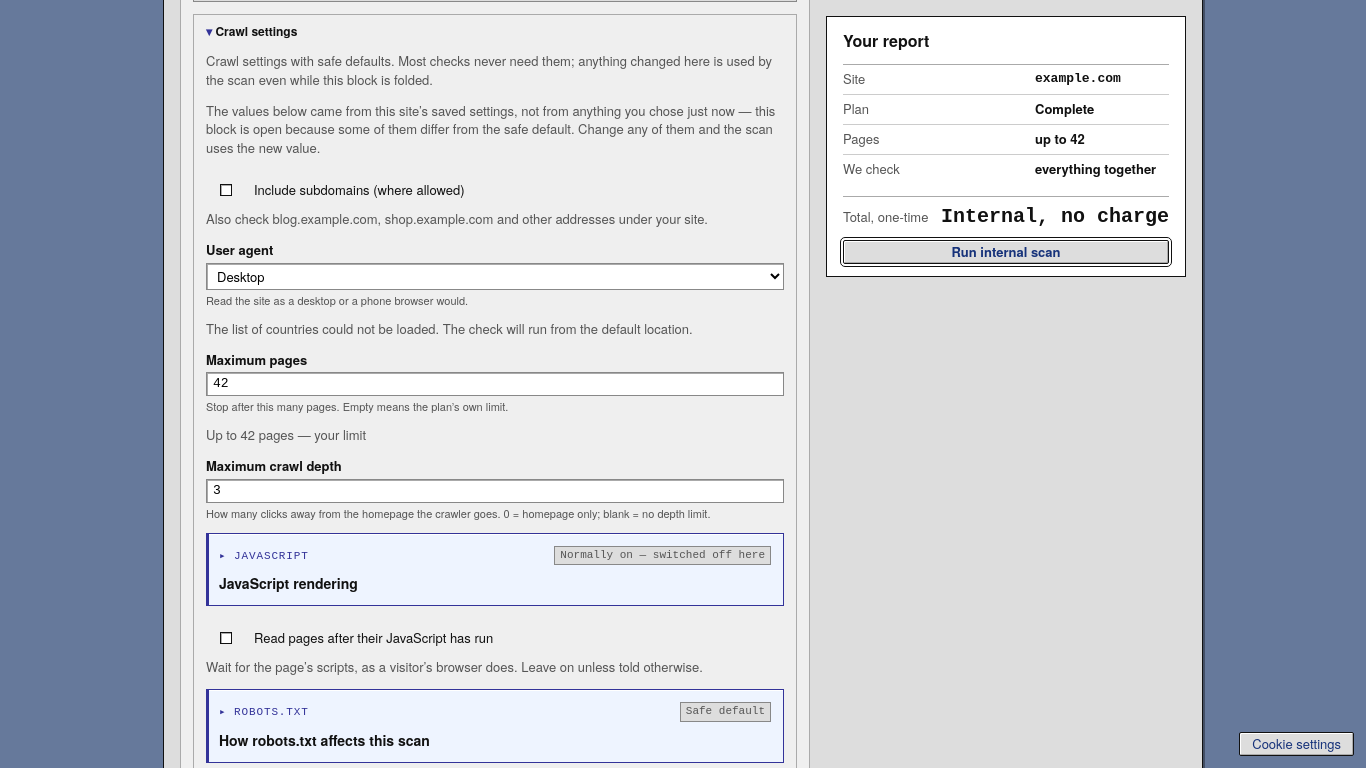
Test: a page count the API would refuse › stops the scan and says so when the page count is zero
(page scrolled)
Replace the text in the number field labelled "Maximum pages" with "0": (495, 384) x1=206 y1=372 x2=784 y2=396
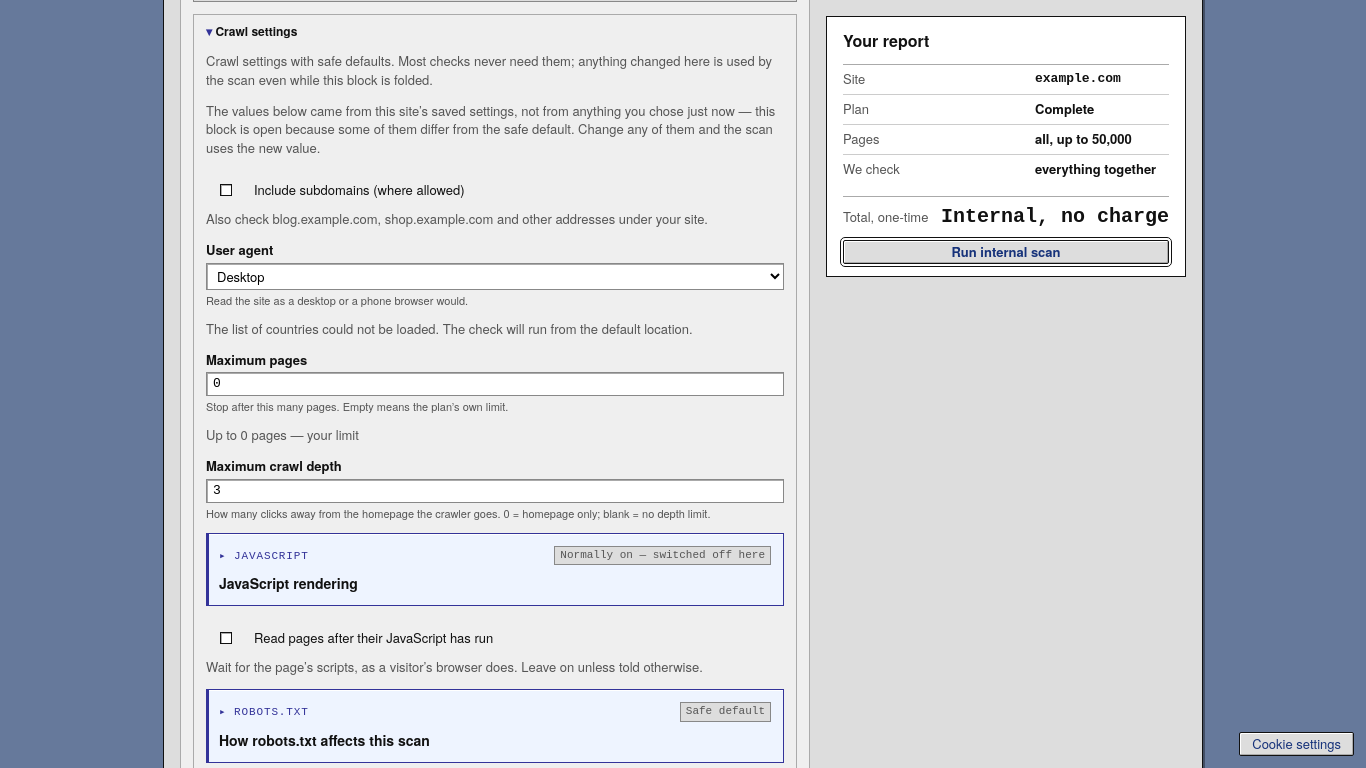
Click the button "Run internal scan": click(1006, 252) x1=843 y1=240 x2=1169 y2=264
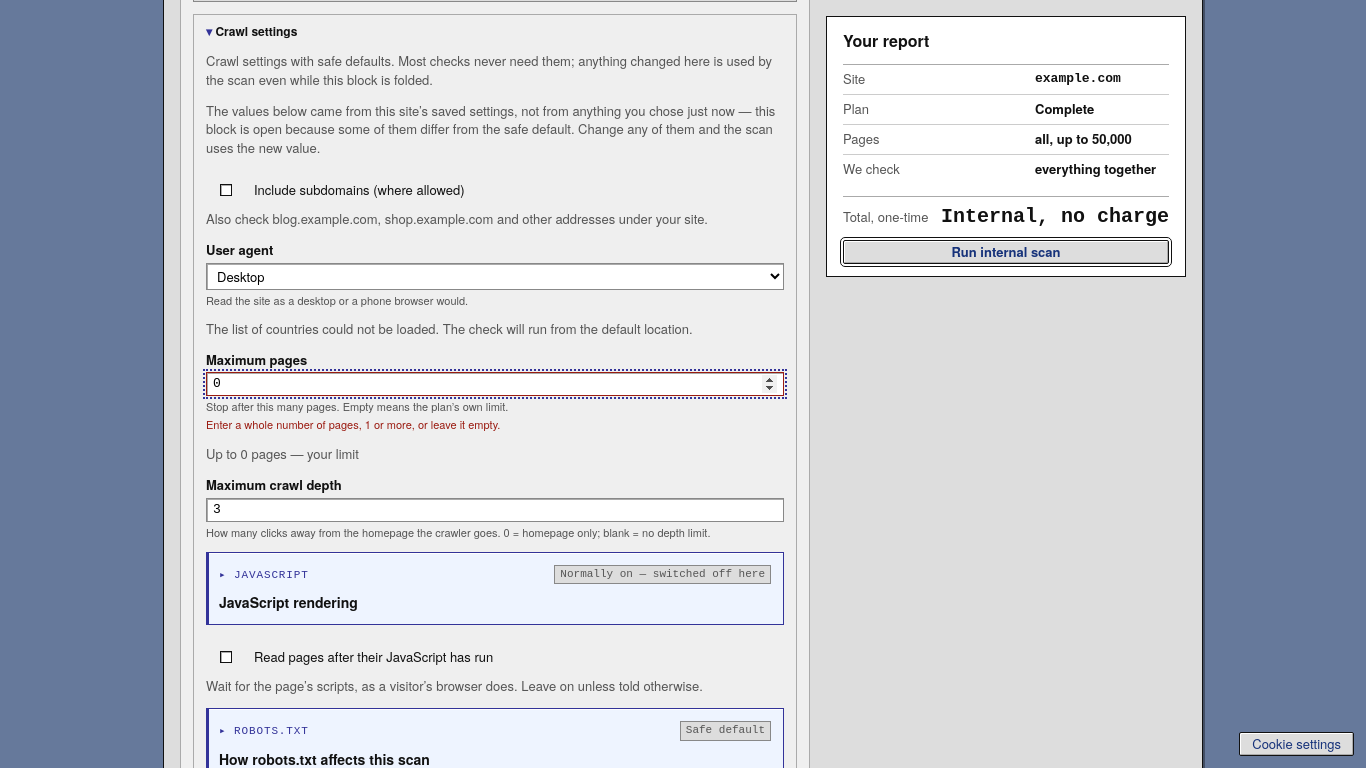
Check: the message shows "Enter a whole number of pages, 1 or more", box x1=206 y1=416 x2=500 y2=432
